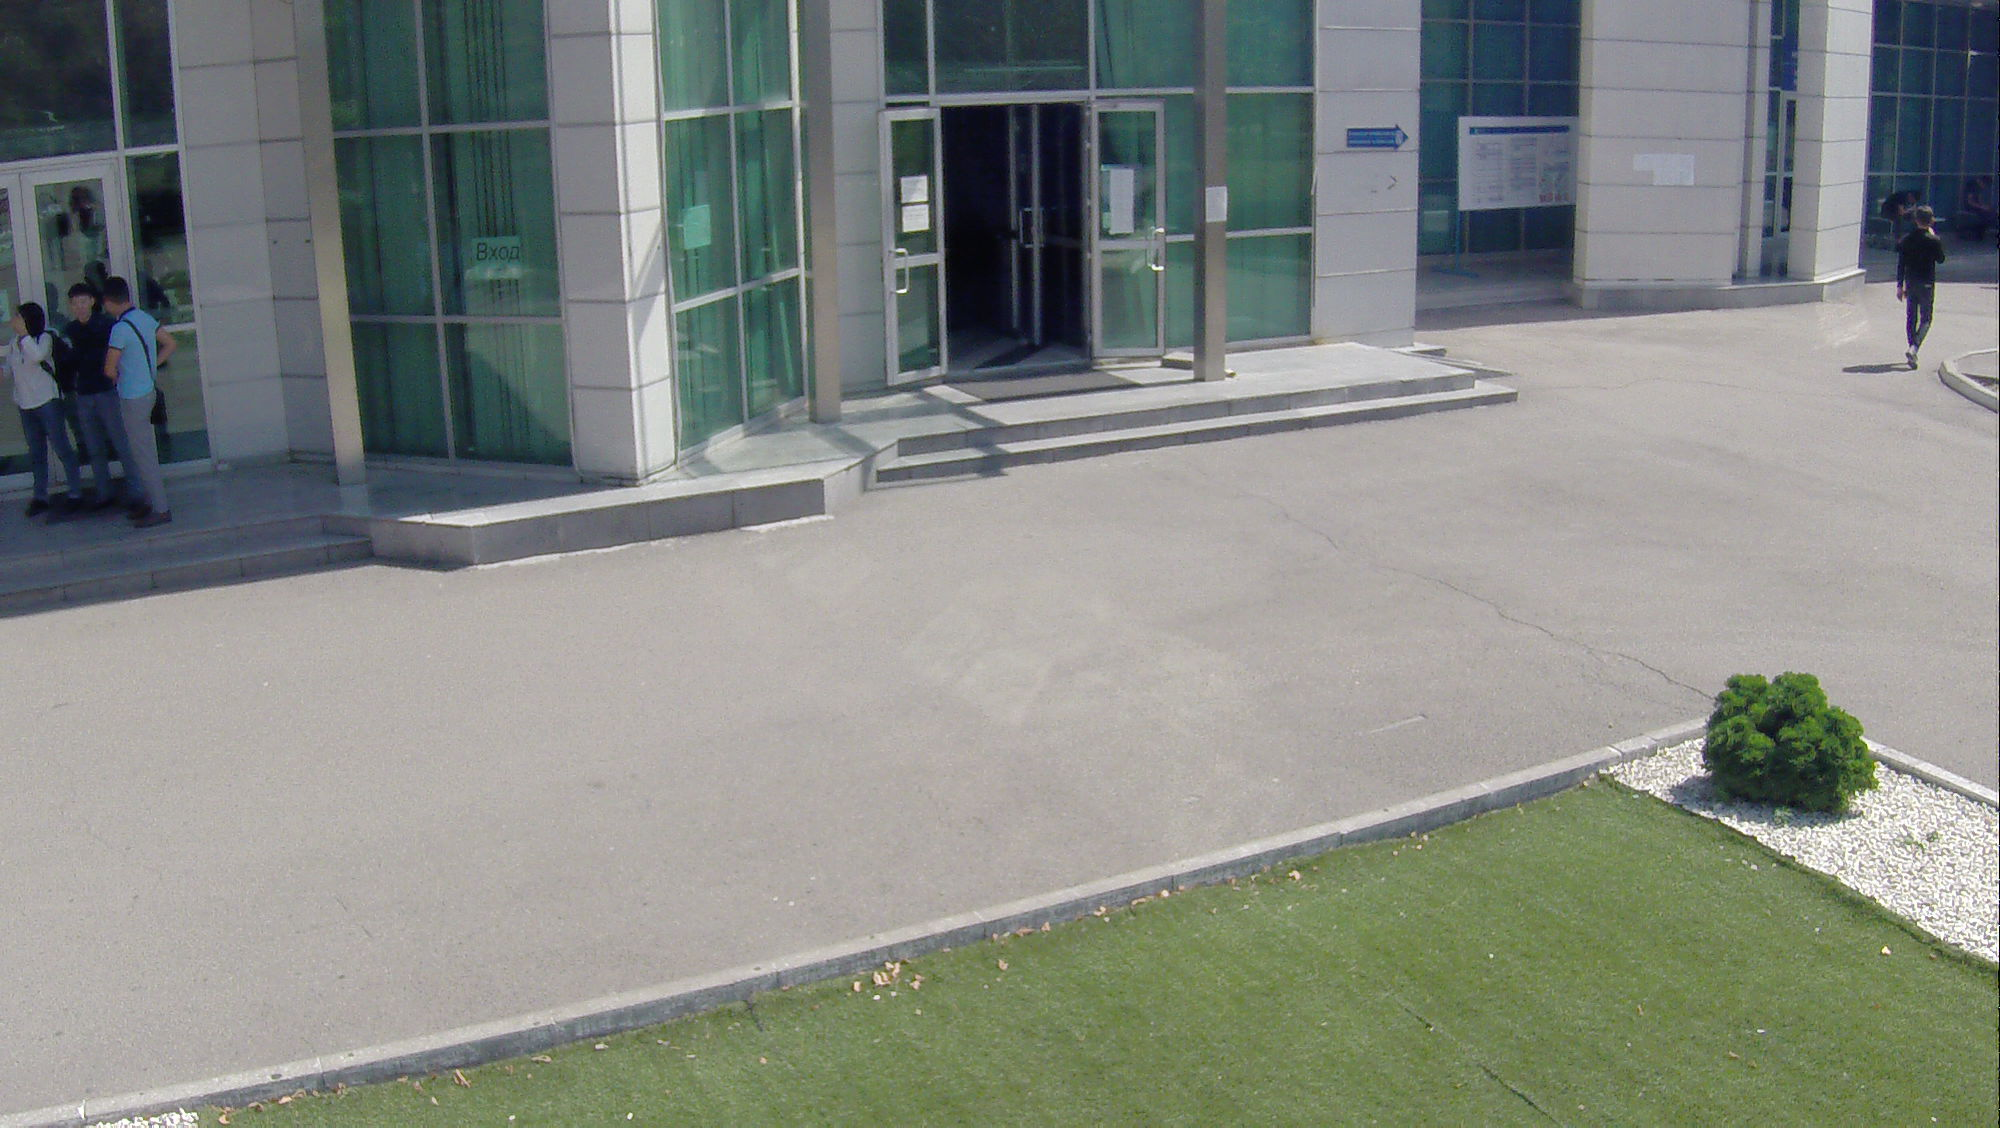person: (101, 272, 178, 536), (57, 277, 128, 514), (8, 297, 82, 519), (1897, 205, 1946, 373)
